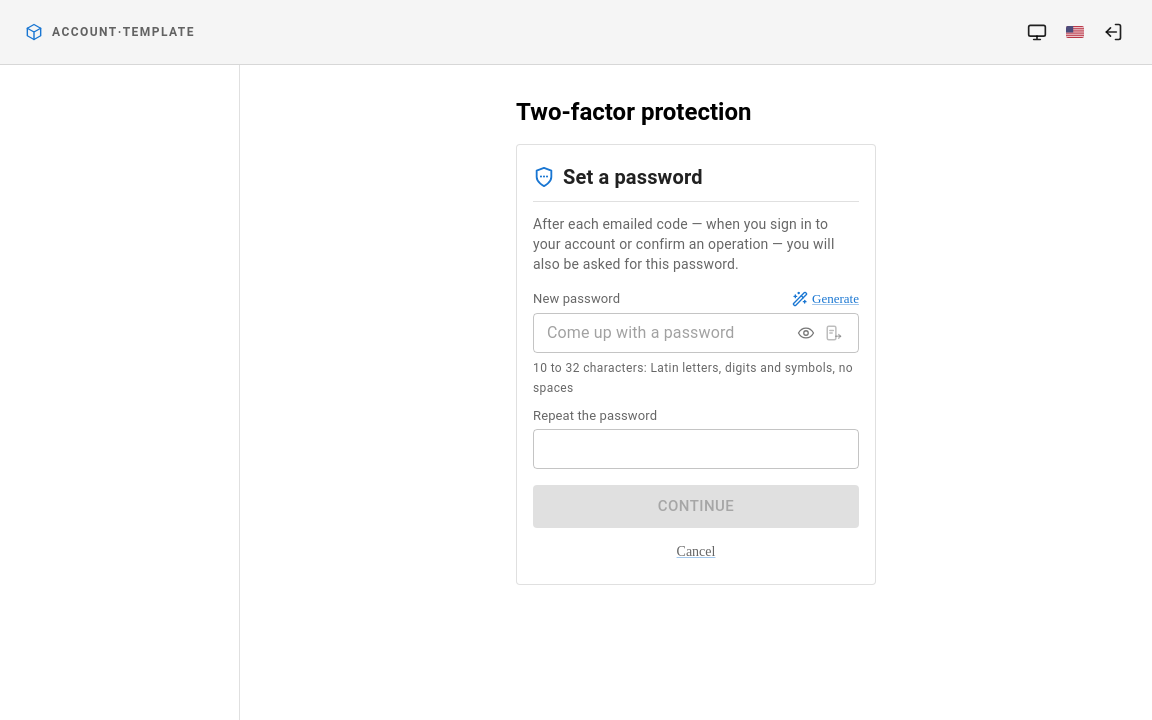
PasswordSetupPage › keeps the gate shut on a weak password
Type "password12" into the password field with test id "field-new_password" at (658, 333), box [533,313,784,353]
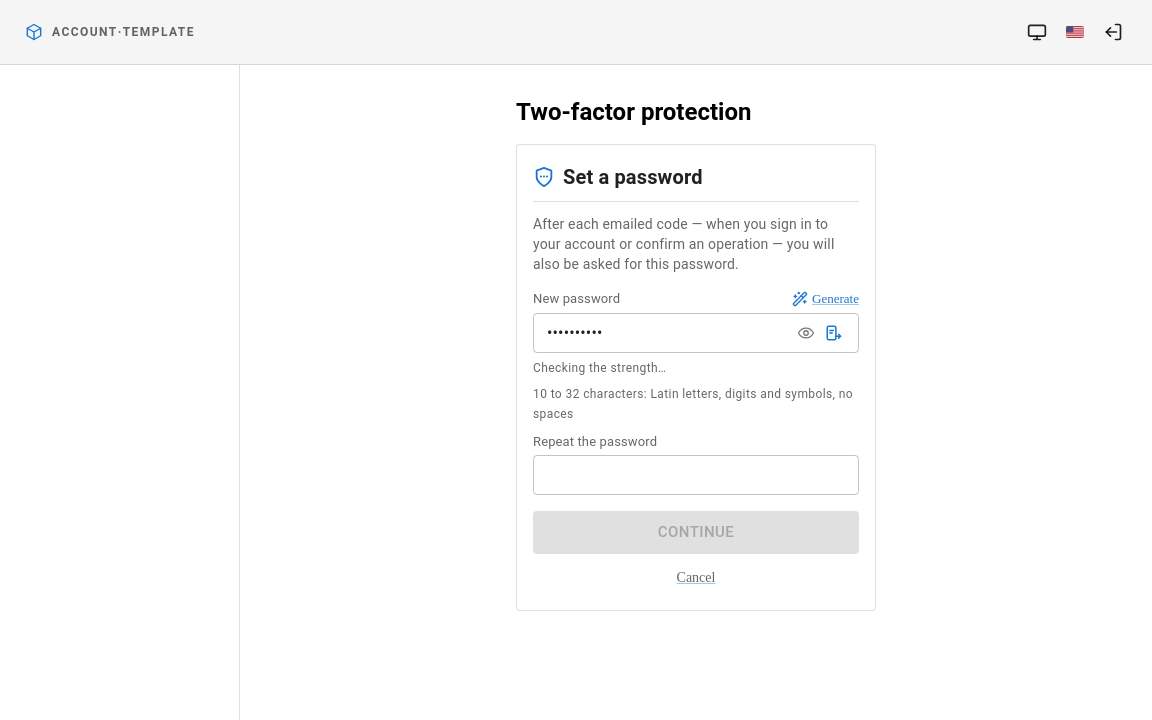
Type "password12" into the password field with test id "field-repeat_password" at (696, 475), box [533,455,859,495]
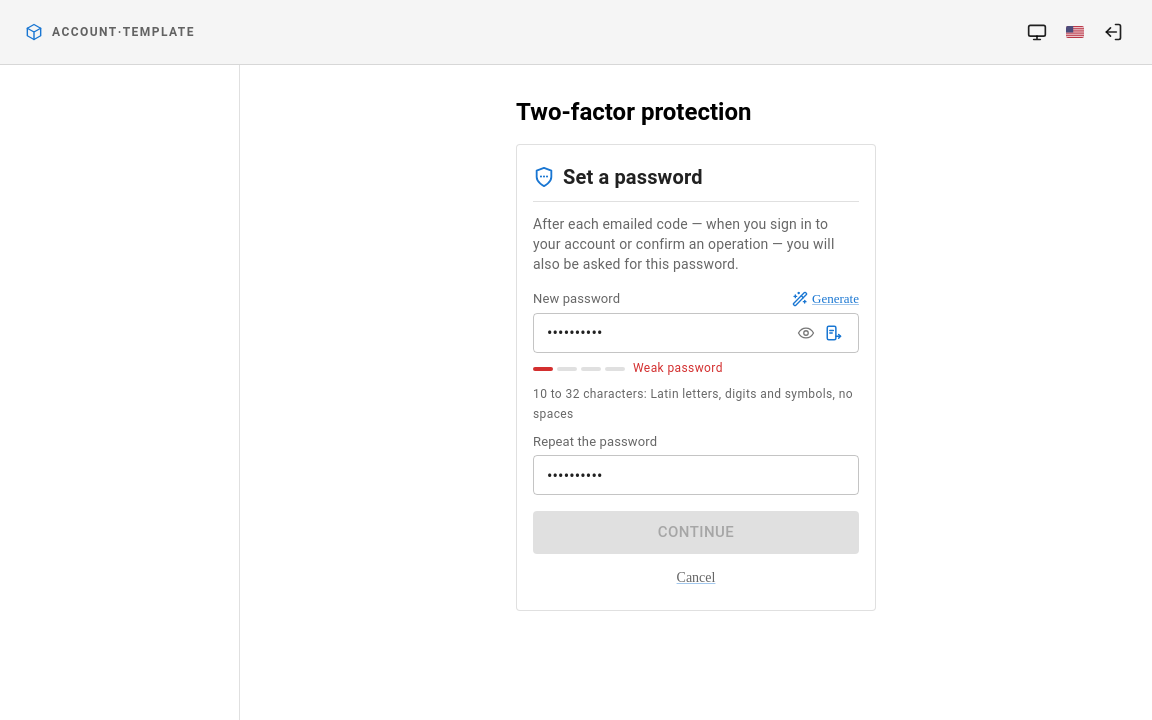
Expected: the button "Continue" is disabled, [533,511,859,554]
Result: the text "Weak password" is shown at [633,359,723,379]
